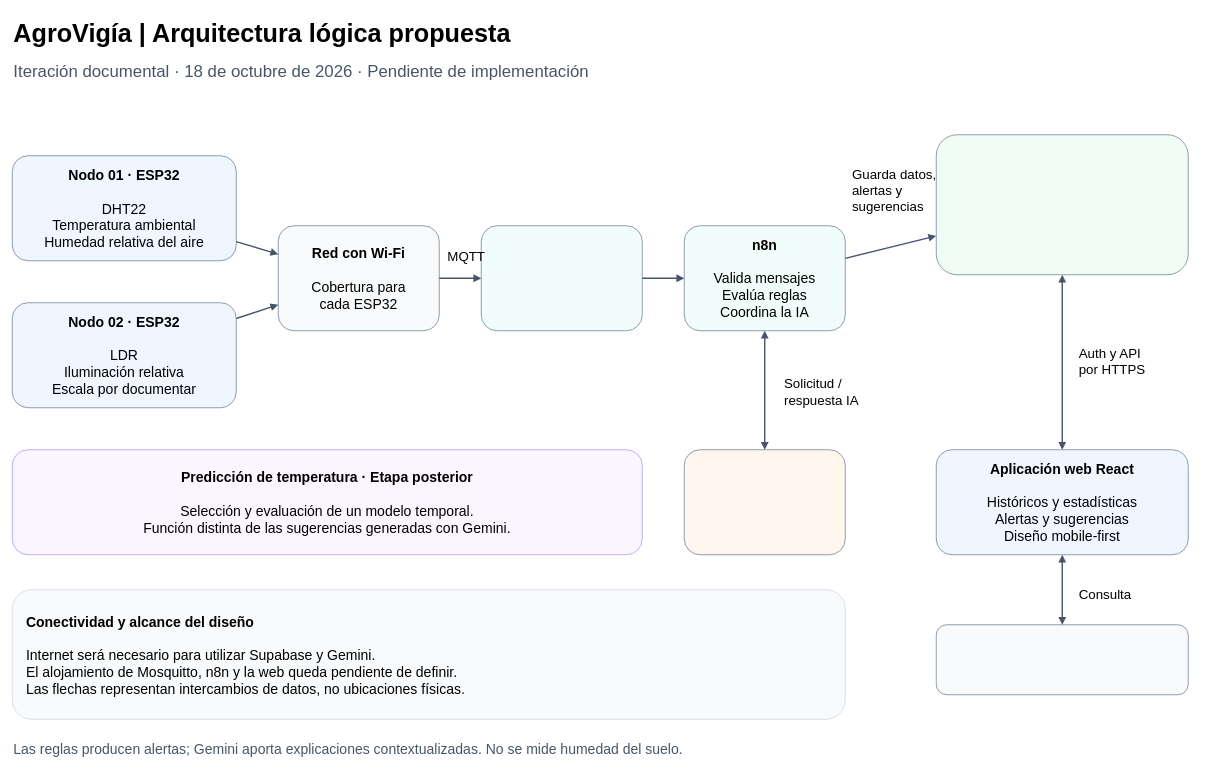
Image size: 1209x778. Some labels were removed from this diagram. The shapes that lost their labels are listed below. From the top down, each one's centre as x and y in pixels, then its label:
At (x=1062, y=204): "Supabase PostgreSQL: mediciones, alertas y sugerencias Autenticación y permisos".
At (x=561, y=278): "Mosquitto Broker MQTT Recibe y distribuye".
At (x=764, y=502): "Gemini API Interpretación y sugerencias con contexto".
At (x=1062, y=659): "Agricultor Acceso con cuenta habilitada".
